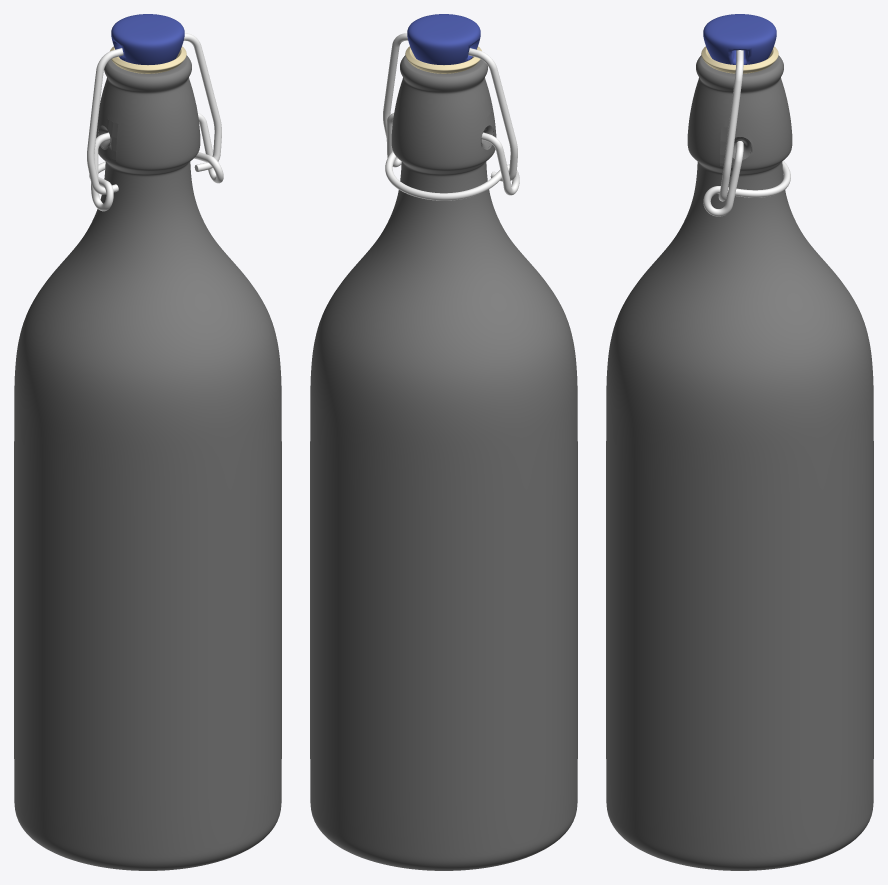
Rendered from glass_bottle.FBX.
The picture shows the model from 3 angles, left to right: view 1: azimuth 30°, elevation 25°; view 2: azimuth 150°, elevation 25°; view 3: azimuth 270°, elevation 25°; orthographic projection.
Visible parts, largest first — view 1: 10 Bottle; view 2: 10 Bottle; view 3: 10 Bottle.
Part boxes in pixels (x1,y1,x2,y2): 10 Bottle: (14, 14, 281, 870); 10 Bottle: (310, 14, 577, 870); 10 Bottle: (606, 14, 873, 870).
Size of the model in its own units: 0.4611 by 1.51 by 0.4611.
